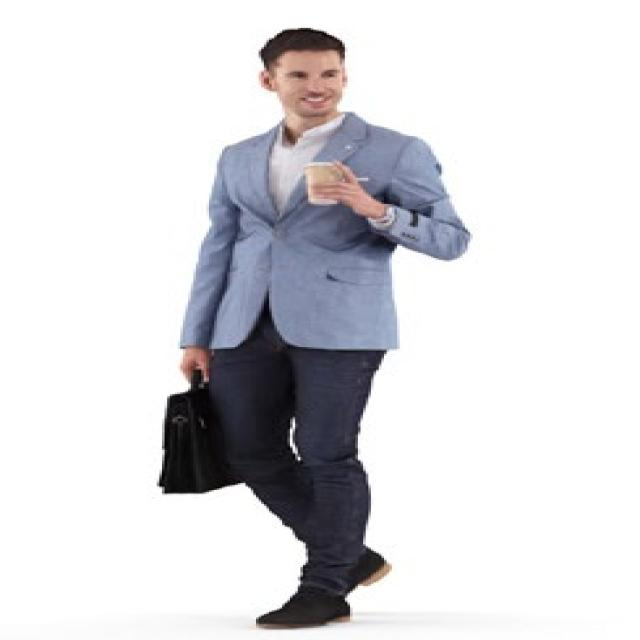standing: (154, 22, 480, 632)
